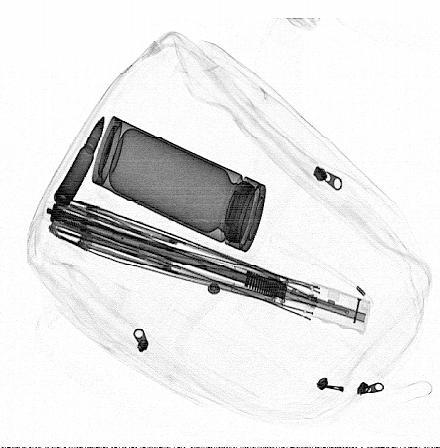Bullet: (53, 115, 105, 205)
